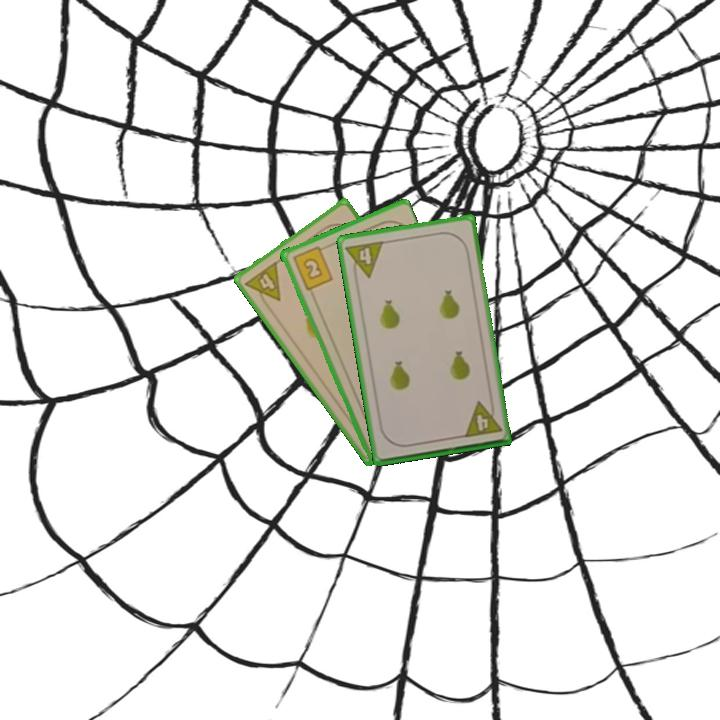2b: (289, 242, 335, 293)
4p: (241, 258, 283, 311), (342, 237, 386, 282), (460, 397, 504, 440)
